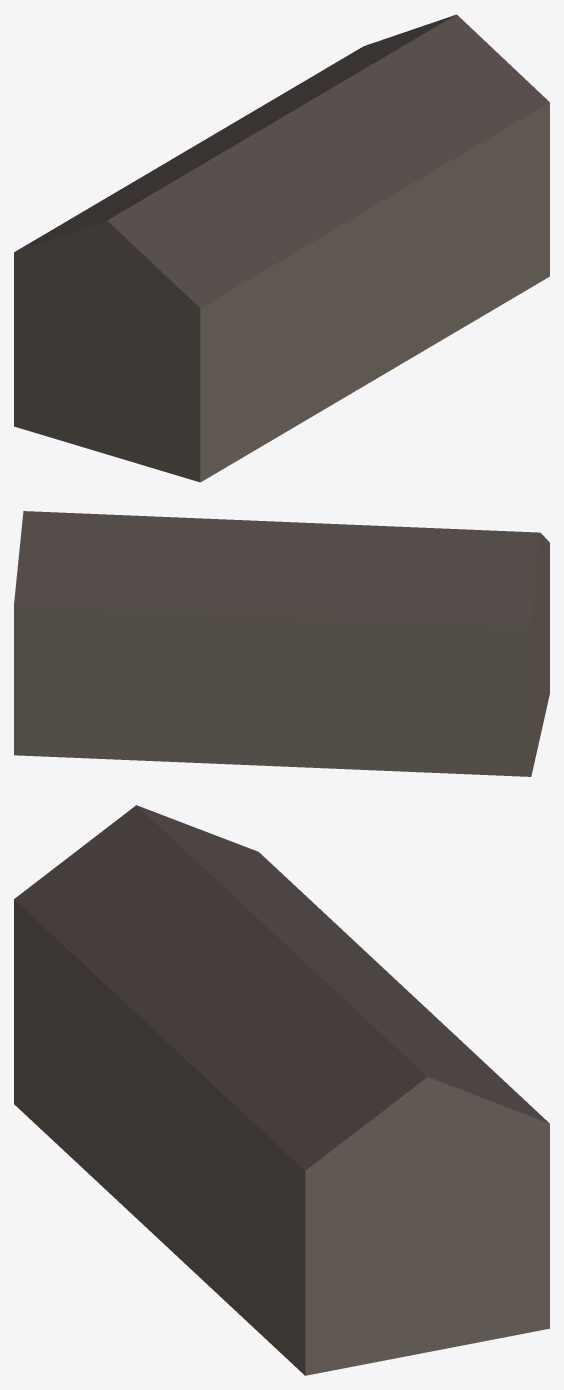
3 renders of one model, top to bottom at view 1: azimuth 30°, elevation 25°; view 2: azimuth 150°, elevation 25°; view 3: azimuth 270°, elevation 25°, orthographic. The views are drawn at different scales.
Visible parts, largest first — view 1: HP-w1201242657; view 2: HP-w1201242657; view 3: HP-w1201242657.
Part boxes in pixels (x1,y1,x2,y2): HP-w1201242657: (14,14,549,482); HP-w1201242657: (14,511,549,776); HP-w1201242657: (14,805,549,1375).
Bounding box in the file's own units: 20.04 × 8.06 × 14.23.
